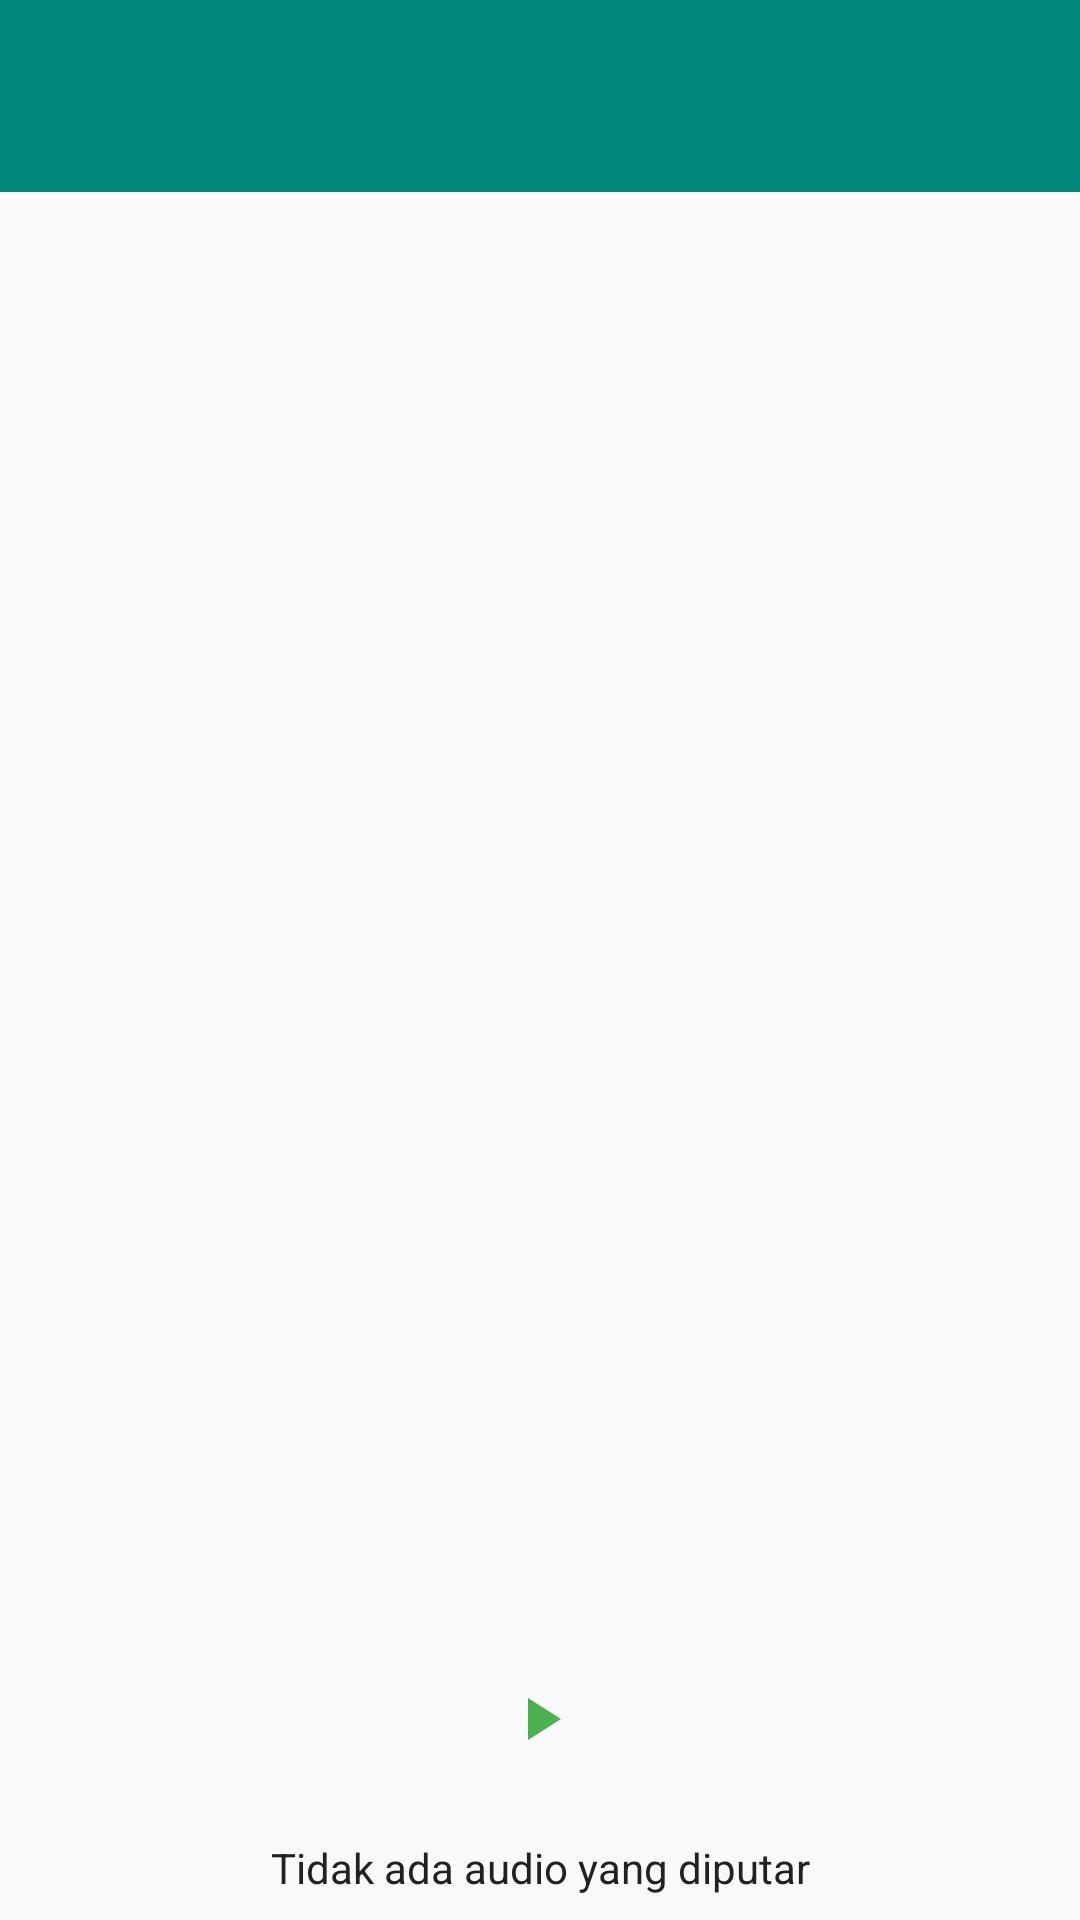

Named icons in this screenshot (1080px×1920px) and their centers, point (x, y):
Play All: point (544, 1719)
